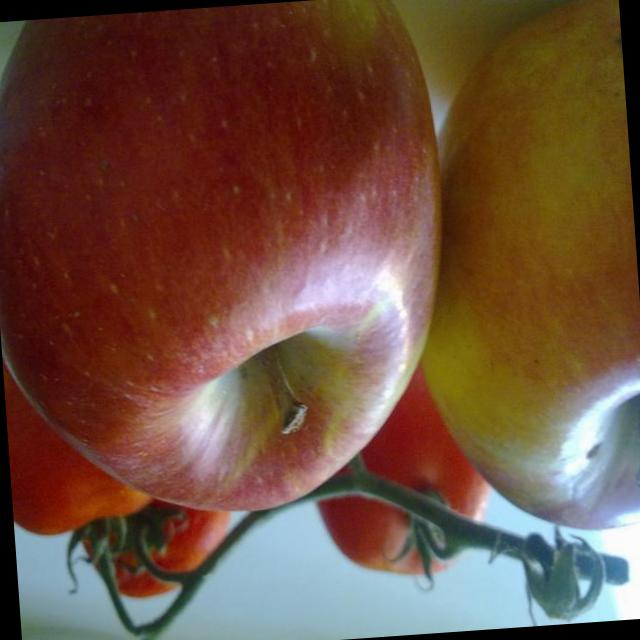Apple: (0, 0, 463, 529), (395, 0, 640, 542)
